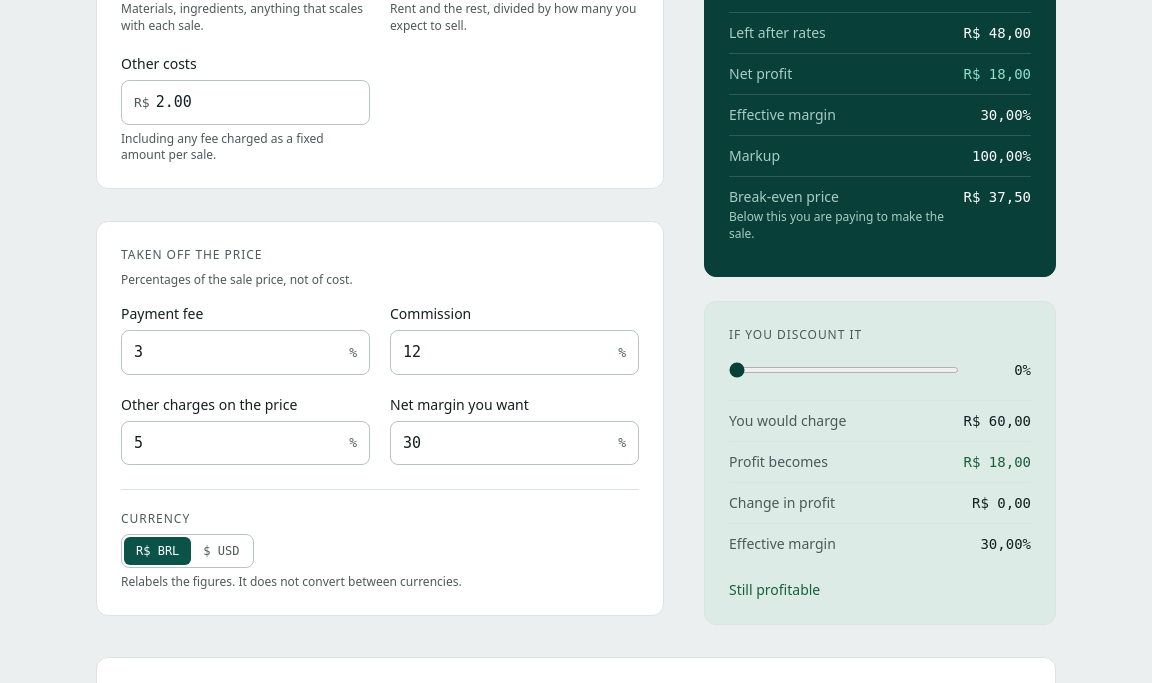
Scenario: the calculator › rejects a rate above 100%
The image size is (1152, 683).
(page scrolled)
Step 1. Replace the text in the field labelled "Commission" with "120" → (508, 352), box [403,331,612,374]
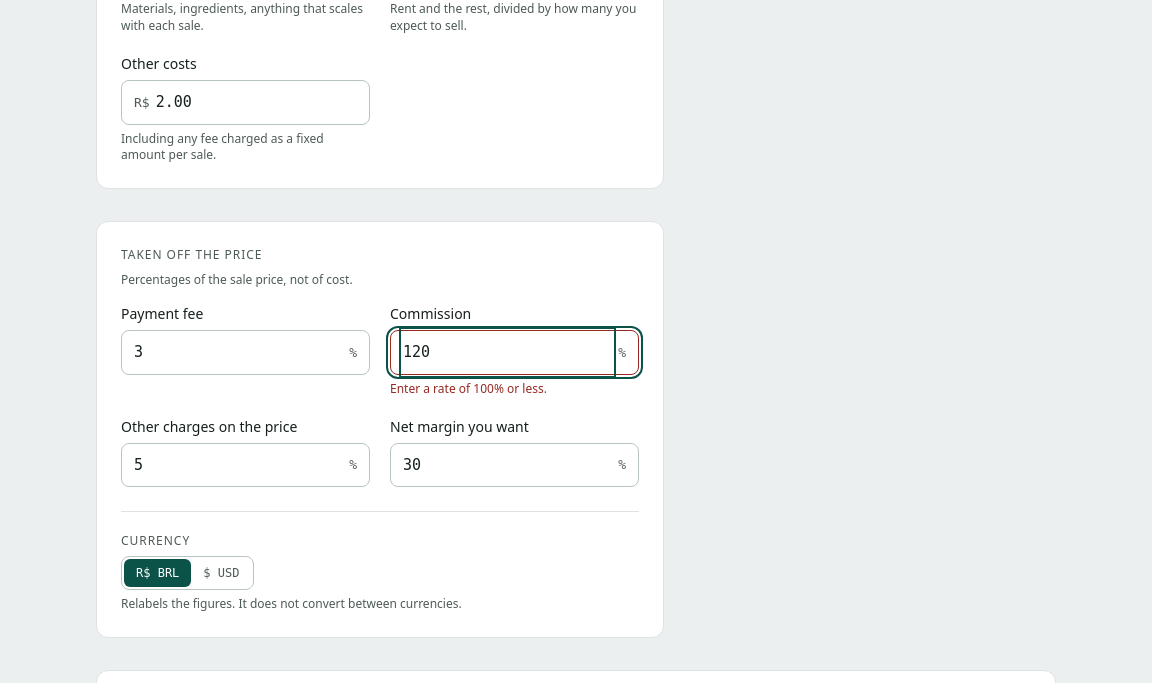
Check: the message reads "Enter a rate of 100% or less.", box [390,380,547,396]
